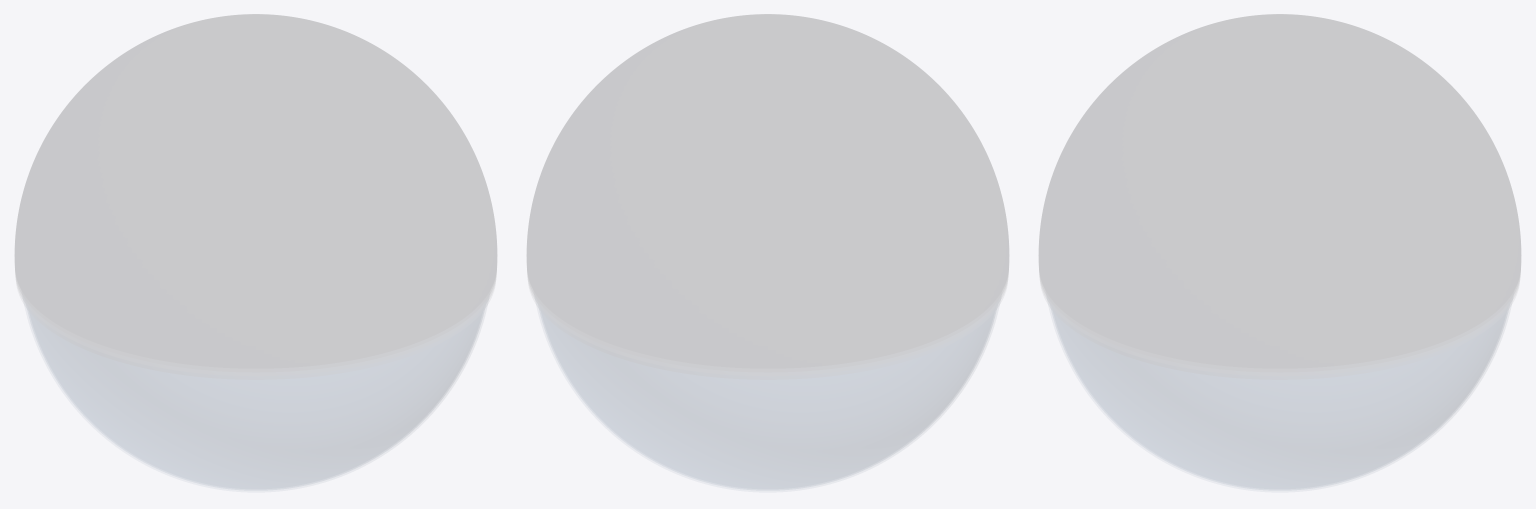
Rendered from atmosphere.glb.
3 views of the same model, side by side, from view 1: azimuth 30°, elevation 25°; view 2: azimuth 150°, elevation 25°; view 3: azimuth 270°, elevation 25° (orthographic).
Visible parts, largest first — view 1: Atmosphere; view 2: Atmosphere; view 3: Atmosphere.
Part boxes in pixels (x1,y1,x2,y2): Atmosphere: (15,14,496,489); Atmosphere: (527,14,1008,489); Atmosphere: (1039,14,1520,489).
Size of the model in its own units: 2.08 by 2.07 by 2.08.
